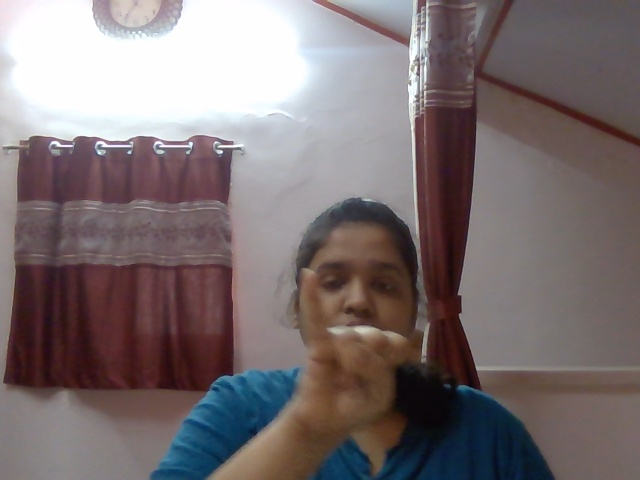i: (280, 264, 422, 443)
